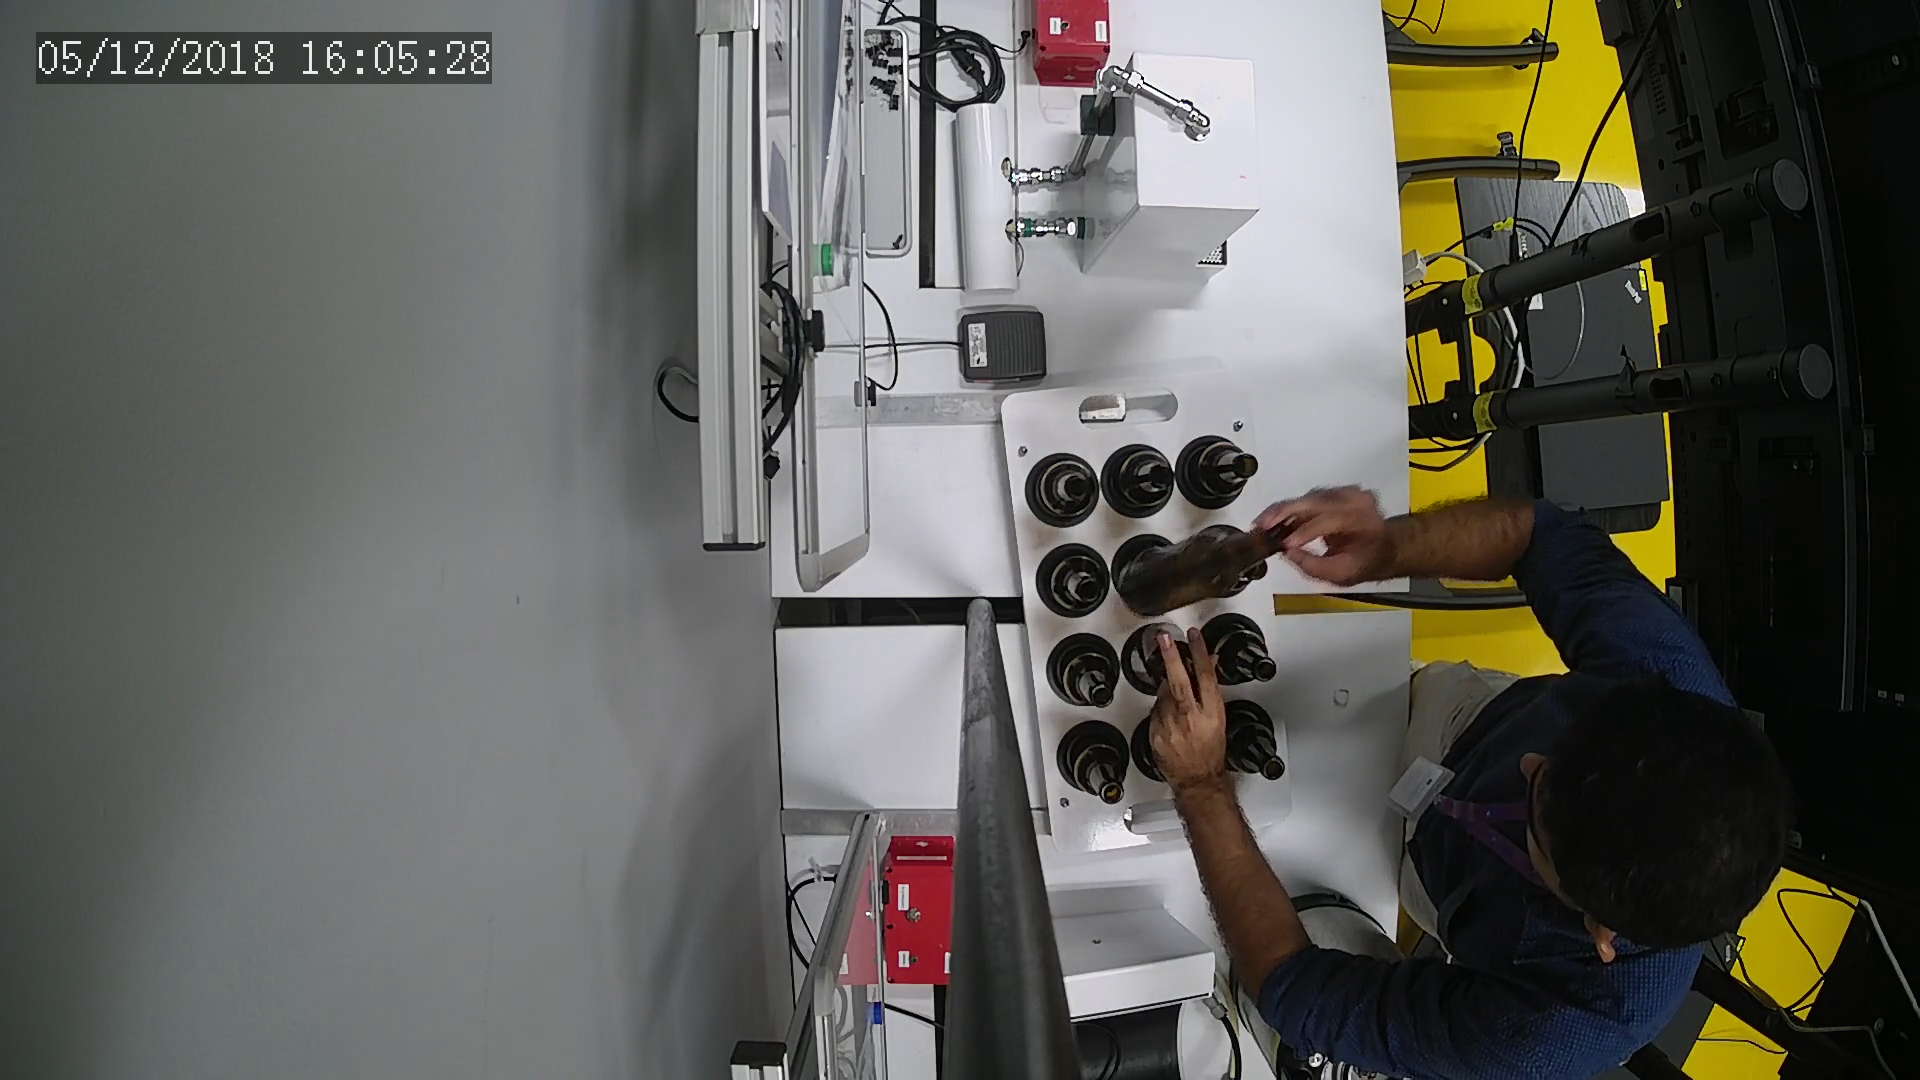filled_bottle: (1029, 541, 1118, 626), (1054, 723, 1135, 814), (1203, 613, 1288, 699), (1178, 433, 1262, 520), (1018, 448, 1106, 531), (1098, 436, 1176, 522), (1220, 698, 1291, 789), (1039, 632, 1116, 715)
trolley: (1004, 355, 1305, 837)
